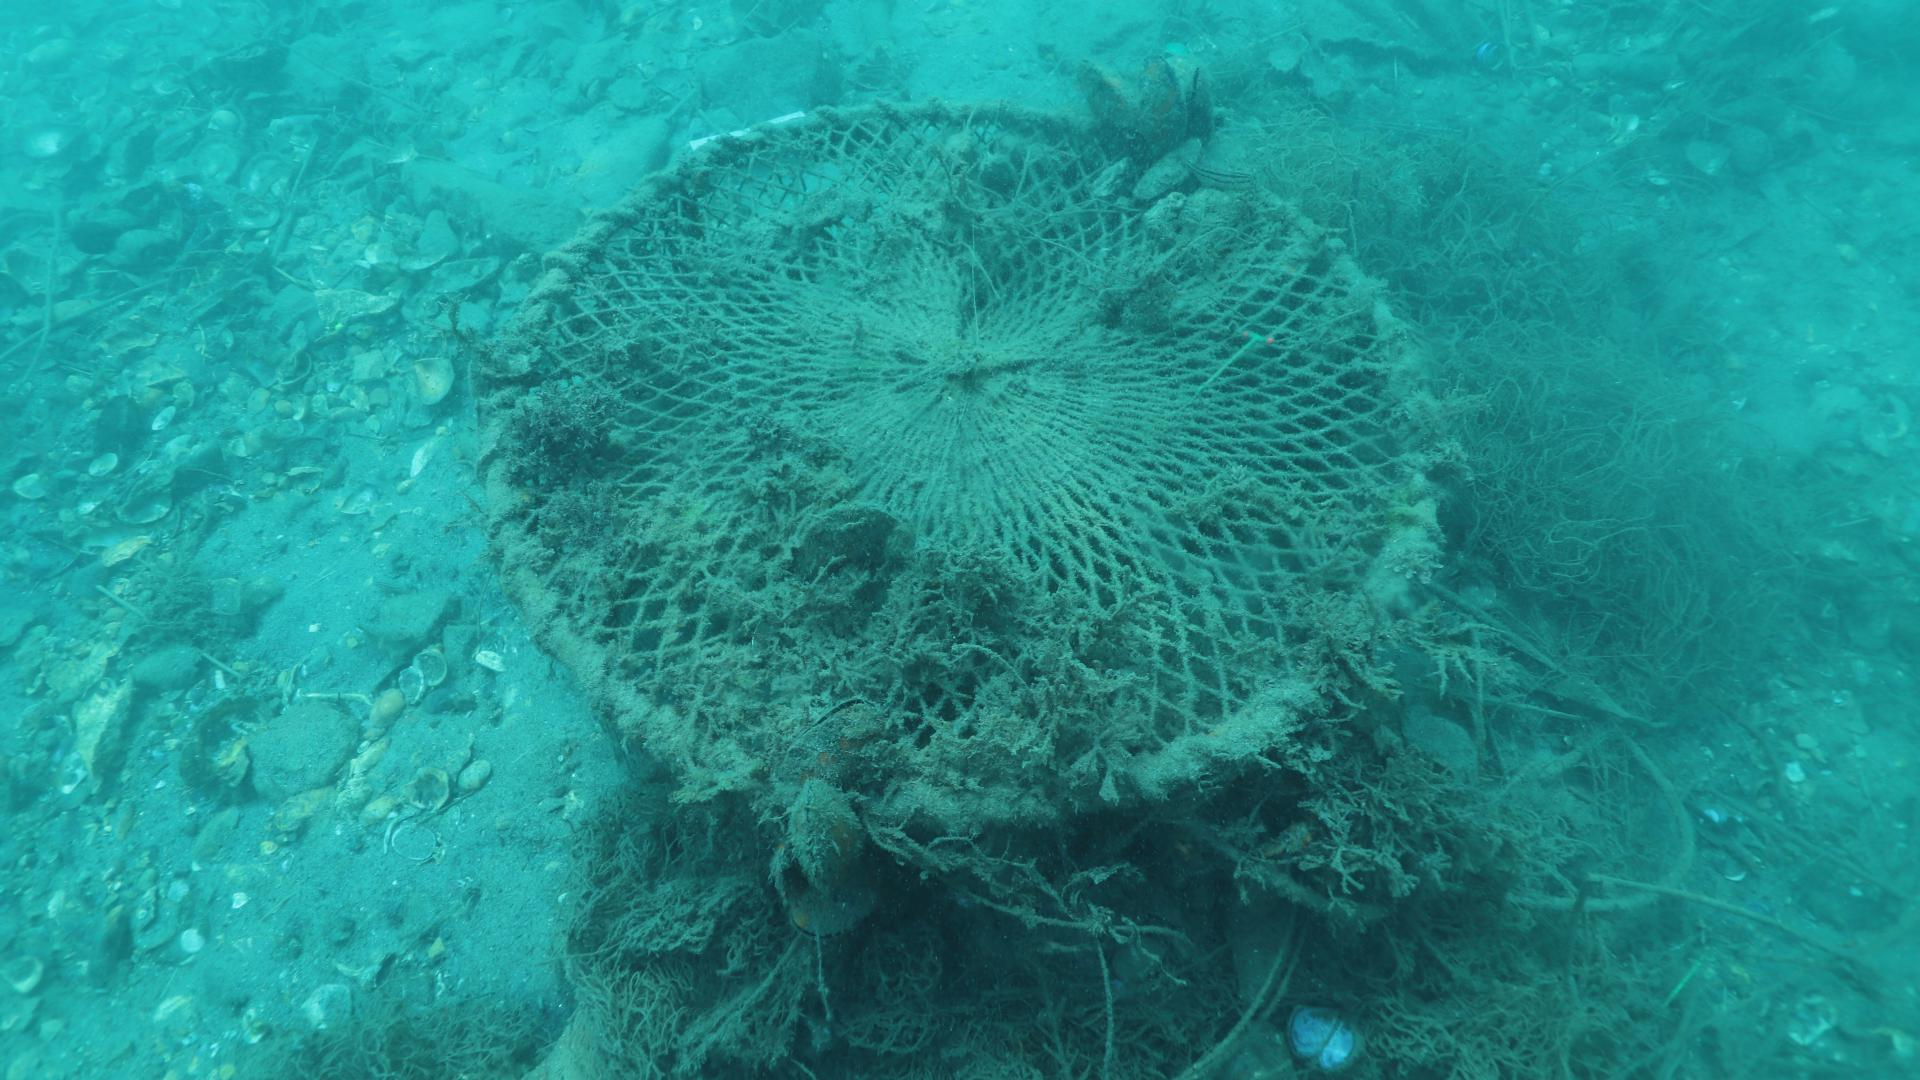circular fish trap: (467, 91, 1452, 855)
